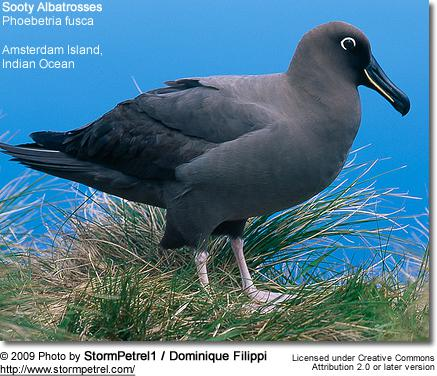003.Sooty_Albatross: (5, 21, 412, 307)
